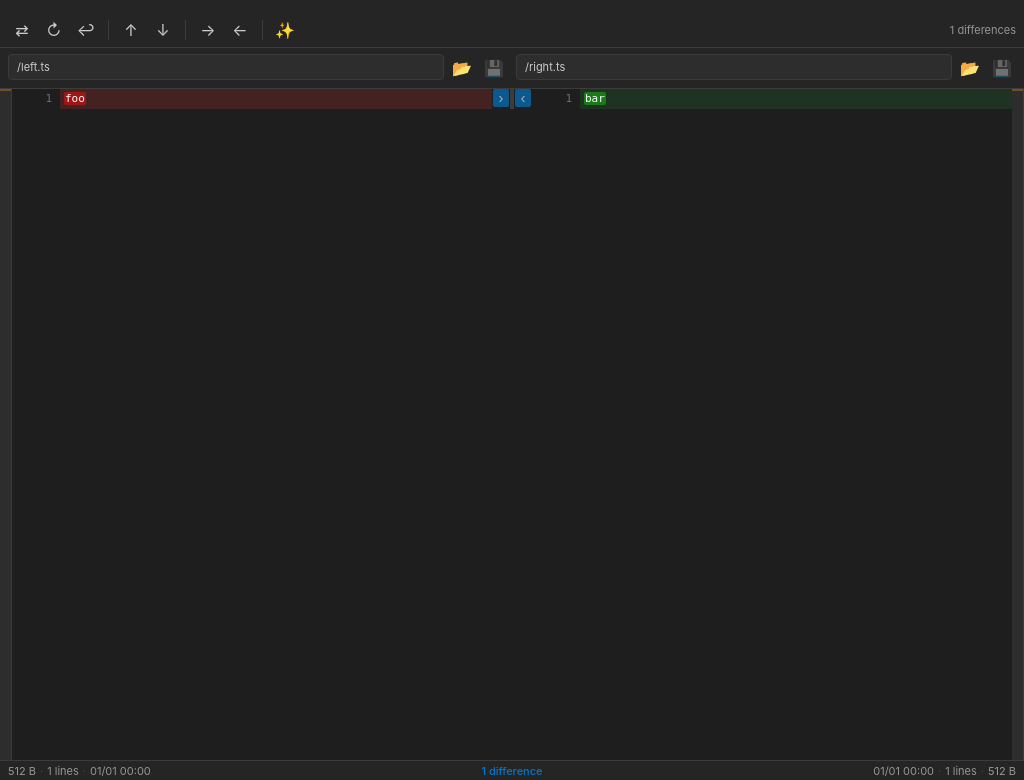
Scenario: Copy All Left → Right / Right → Left (feature 5.3) › copies all left content to right: diffs disappear, right gets dirty
Click the button "→" at (208, 30), box [194,16,222,44]
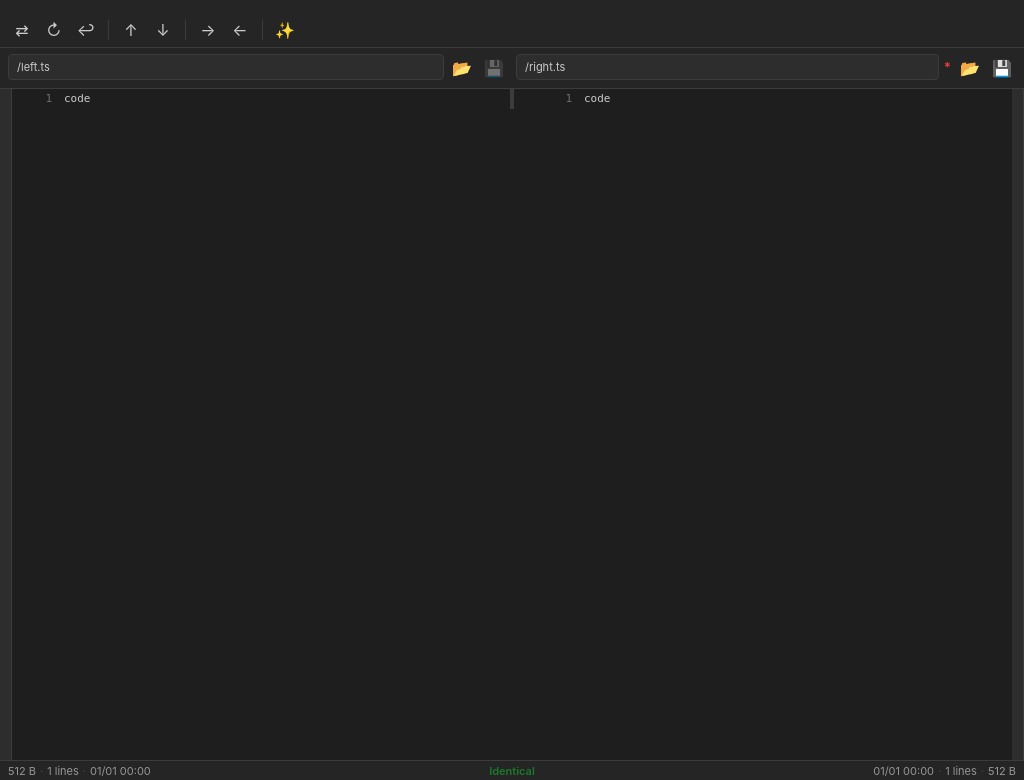
Expected: the 2nd button "💾" is enabled, [988,54,1016,82]
